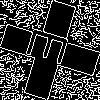E: (25, 25, 79, 70)
